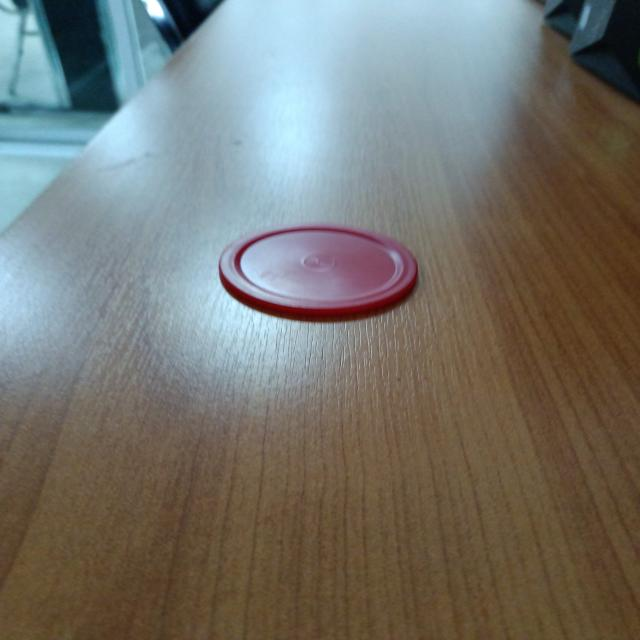chip: (215, 222, 420, 318)
